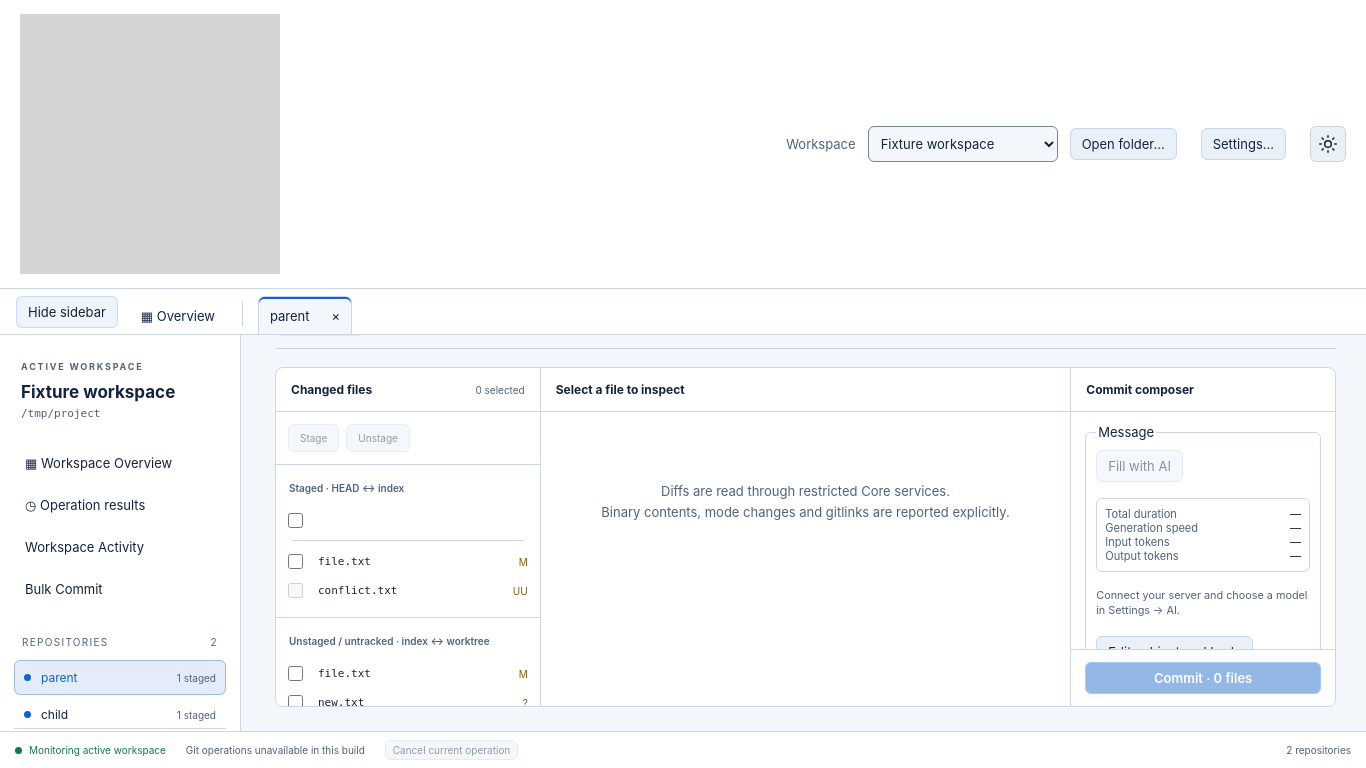
Test case: selects every selectable file from none or partial selection, then clears all
The width and height of the screenshot is (1366, 768).
Earlier steps of the test are not shown.
(page scrolled)
Click the checkbox named "Select all changed files" at (296, 520), box [288, 513, 303, 528]
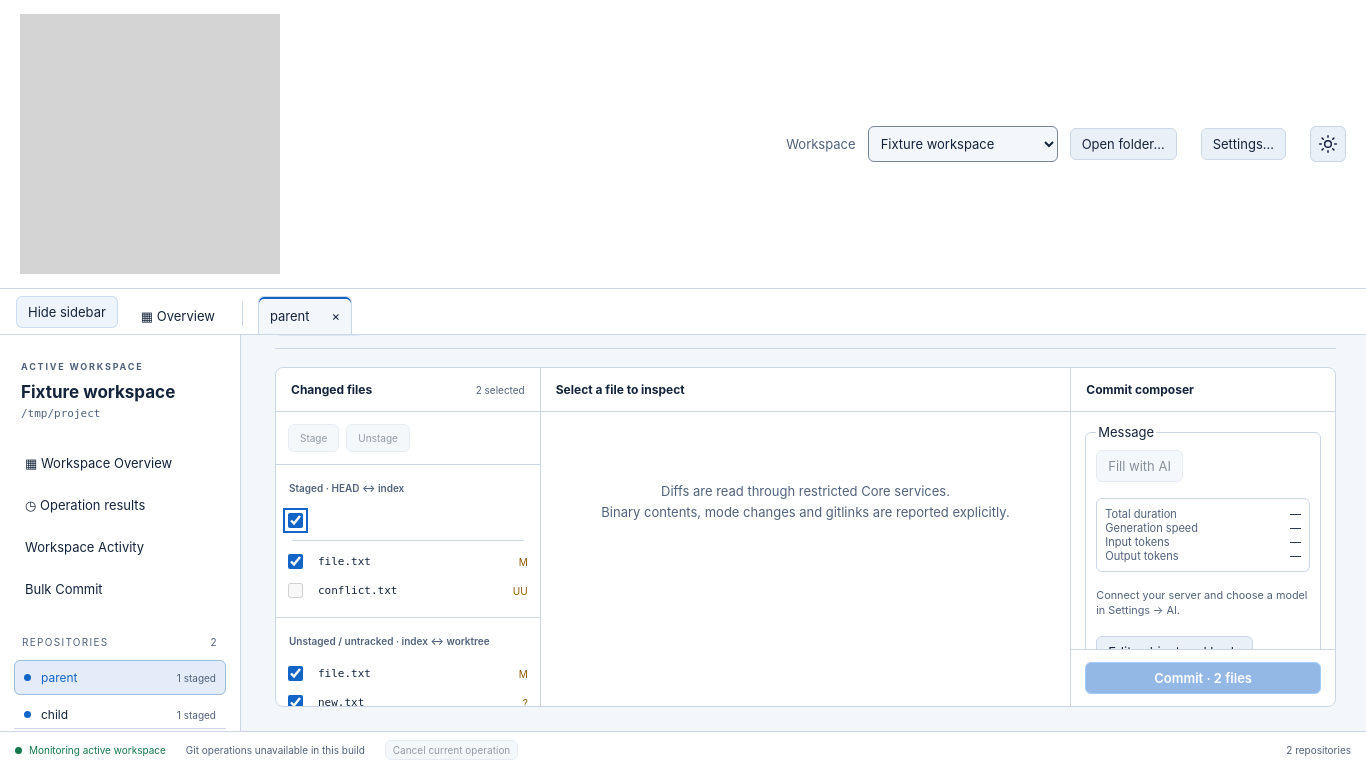
expect the checkbox named "Select all changed files" is checked: met, box [288, 513, 303, 528]
expect the checkbox named "Include " is checked: met
expect the text "2 selected" is shown: met, box [476, 384, 525, 396]
Click the checkbox named "Include " at (296, 562), box [288, 554, 303, 569]
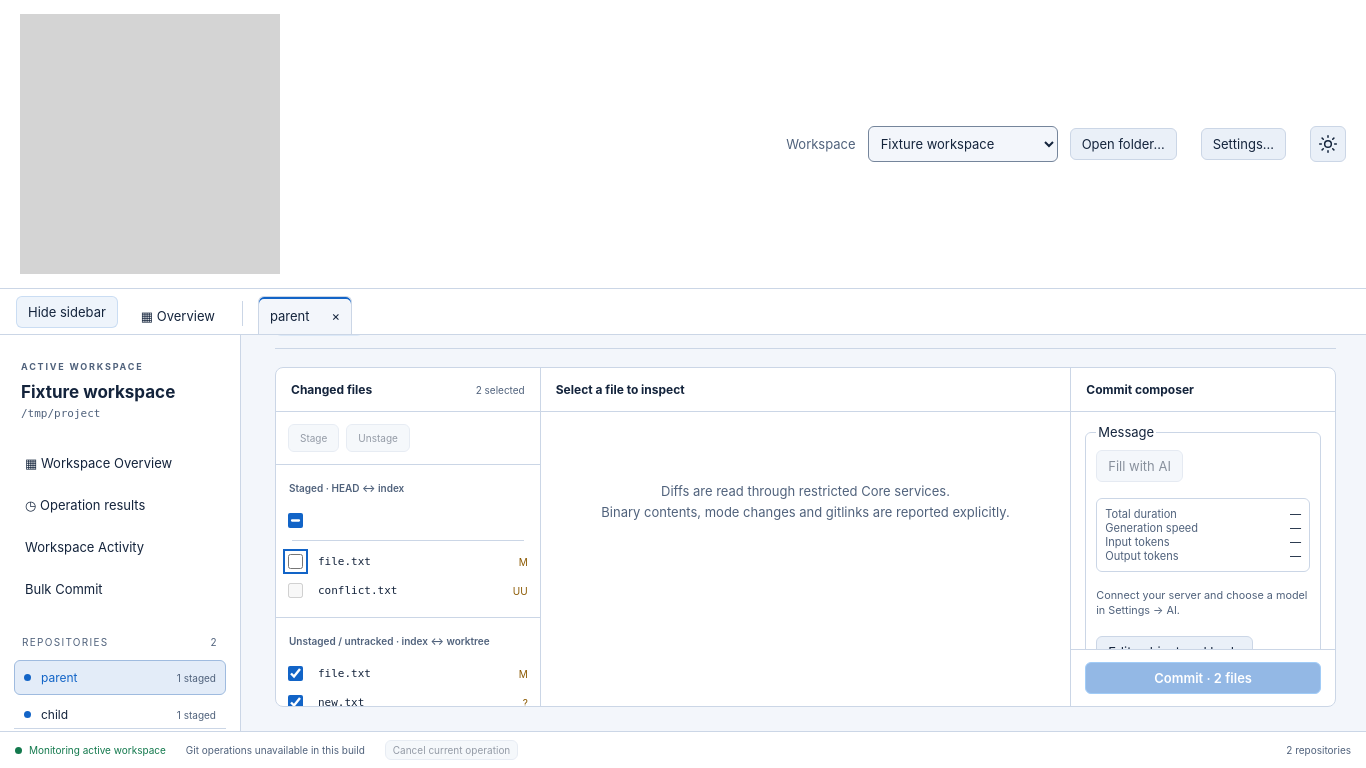
Click the checkbox named "Select all changed files" at (296, 520), box [288, 513, 303, 528]
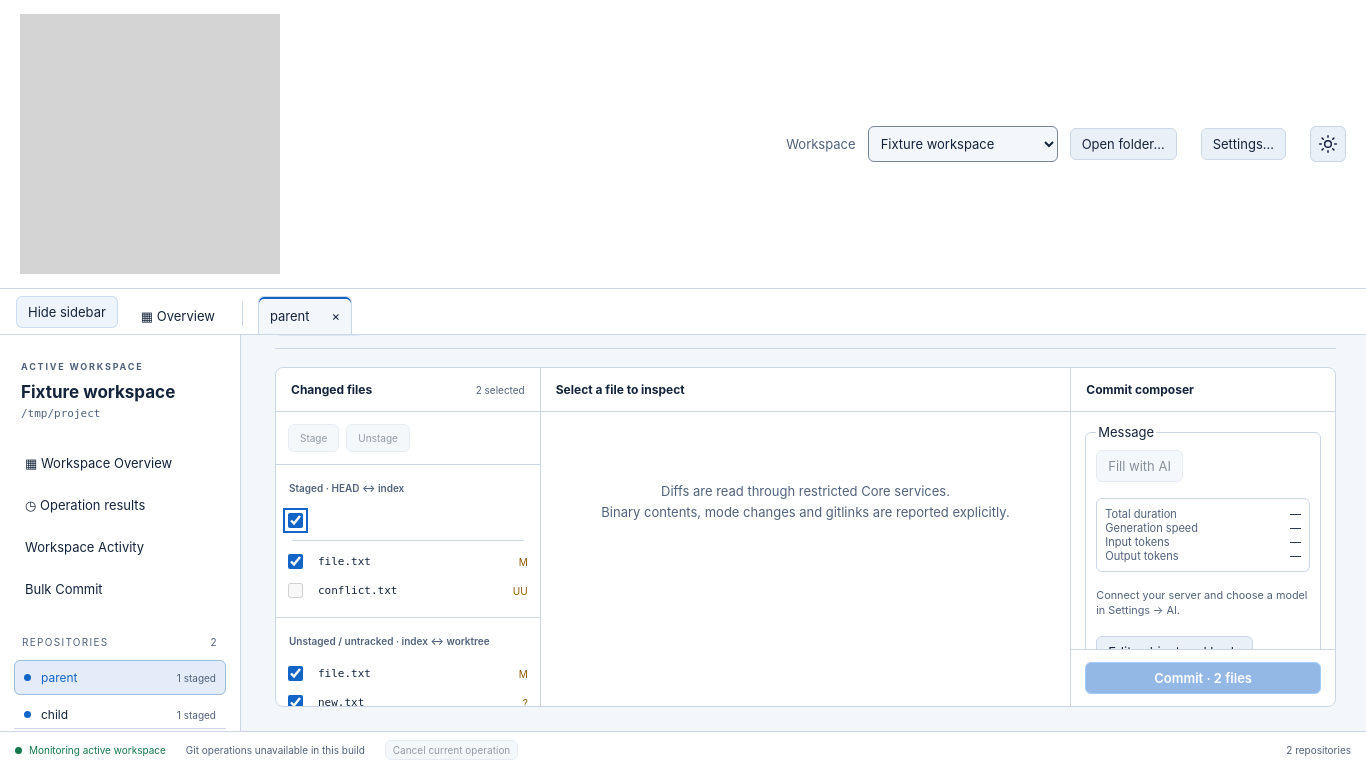
expect the checkbox named "Select all changed files" is checked: met
expect the checkbox named "Include " is checked: met, box [288, 554, 303, 569]
Click the checkbox named "Select all changed files" at (296, 520), box [288, 513, 303, 528]
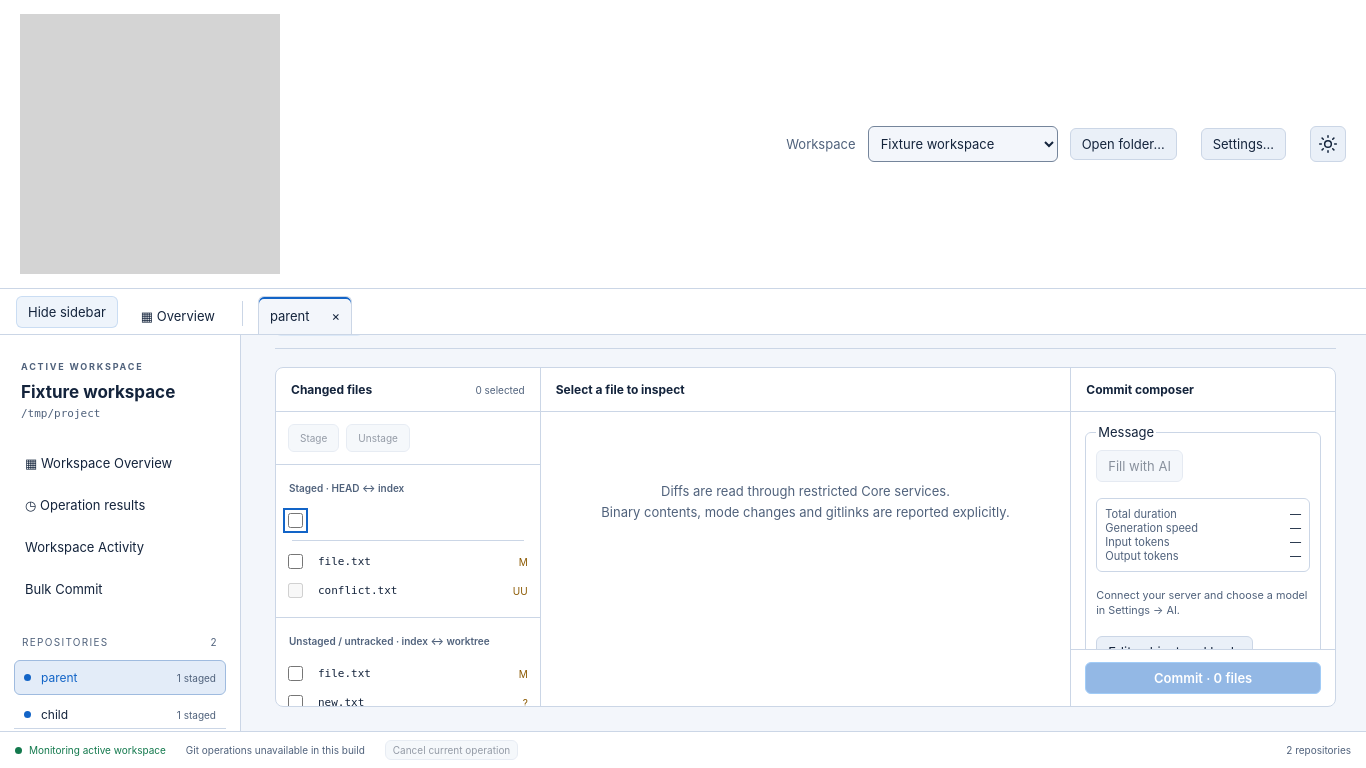
expect the checkbox named "Select all changed files" is not checked: met, box [288, 513, 303, 528]
expect the checkbox named "Include " is not checked: met, box [288, 554, 303, 569]
